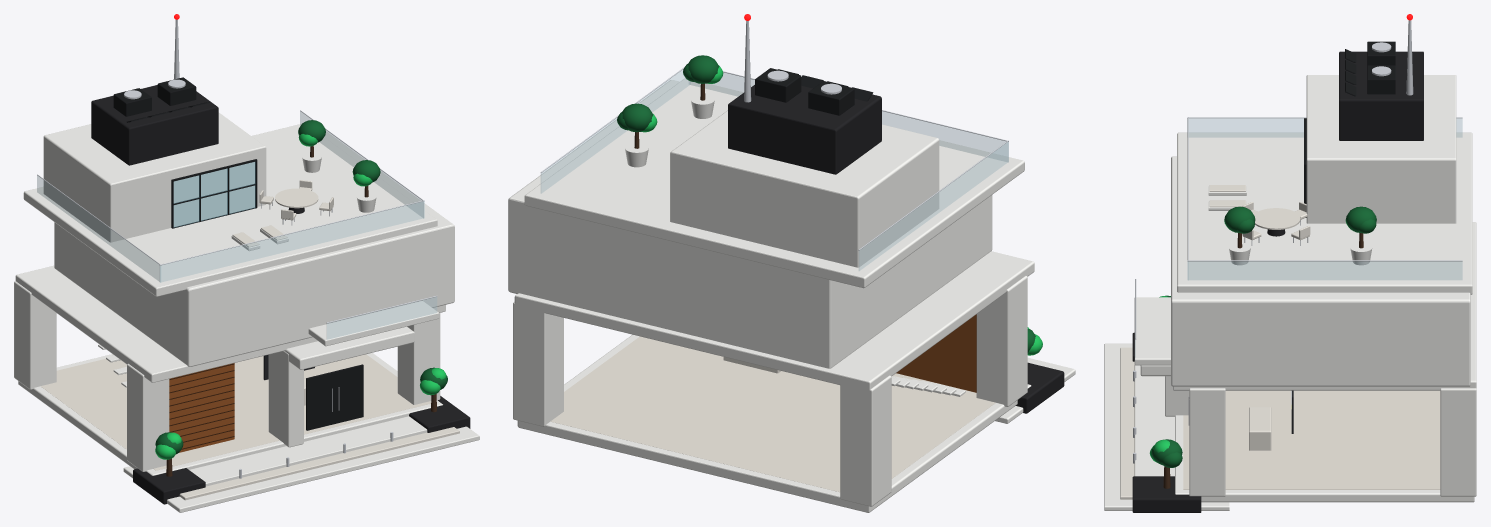
File: qevn_hq.glb
3 renders of one model, left to right at view 1: azimuth 30°, elevation 25°; view 2: azimuth 150°, elevation 25°; view 3: azimuth 270°, elevation 25°, orthographic. The views are drawn at different scales.
Visible parts, largest first — view 1: Rooftop_Garden_Terrace, Upper_Levels_Massing, Ground_Floor_Atrium, Entrance_Podium, Entrance_Portal, Mechanical_Penthouse, Planter_Entrance_0, Planter_Entrance_1, Rooftop_Dining_Suite; view 2: Ground_Floor_Atrium, Rooftop_Garden_Terrace, Upper_Levels_Massing, Mechanical_Penthouse, Planter_Entrance_0, Interior_Reception_Lobby; view 3: Rooftop_Garden_Terrace, Upper_Levels_Massing, Ground_Floor_Atrium, Entrance_Podium, Mechanical_Penthouse, Planter_Entrance_1, Rooftop_Dining_Suite, Interior_Reception_Lobby, Entrance_Portal.
Boxes of the visible parts, x1,y1,x2,y2 form: Rooftop_Garden_Terrace: (23,110,437,296); Upper_Levels_Massing: (15,131,454,382); Ground_Floor_Atrium: (14,281,442,475); Entrance_Podium: (123,416,479,512); Entrance_Portal: (268,326,414,447); Mechanical_Penthouse: (91,19,218,165); Planter_Entrance_0: (133,432,205,504); Planter_Entrance_1: (409,367,470,432); Rooftop_Dining_Suite: (259,180,333,225); Ground_Floor_Atrium: (513,276,1031,512); Rooftop_Garden_Terrace: (524,55,1024,288); Upper_Levels_Massing: (508,80,1034,391); Mechanical_Penthouse: (728,21,881,174); Planter_Entrance_0: (1016,327,1064,413); Interior_Reception_Lobby: (723,357,965,396); Rooftop_Garden_Terrace: (1177,75,1472,294); Upper_Levels_Massing: (1134,156,1476,390); Ground_Floor_Atrium: (1175,388,1476,502); Entrance_Podium: (1104,343,1229,510); Mechanical_Penthouse: (1339,20,1423,140); Planter_Entrance_1: (1132,439,1201,512); Rooftop_Dining_Suite: (1242,202,1310,245); Interior_Reception_Lobby: (1249,390,1293,450); Entrance_Portal: (1140,365,1189,425).
Size of the model in its own units: 19.63 by 22.21 by 18.4.
